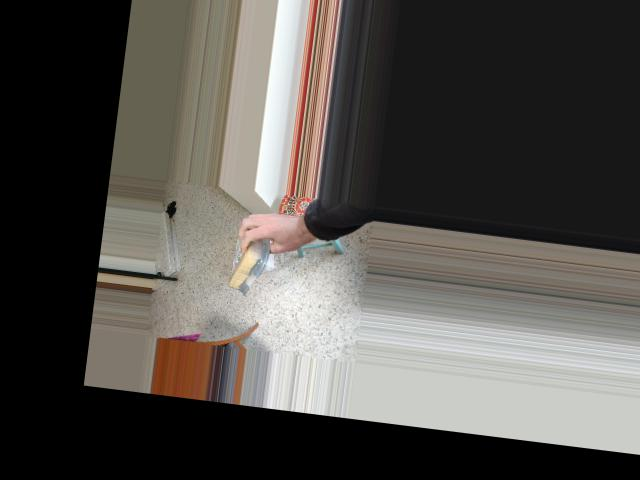cheese: (227, 210, 277, 302)
